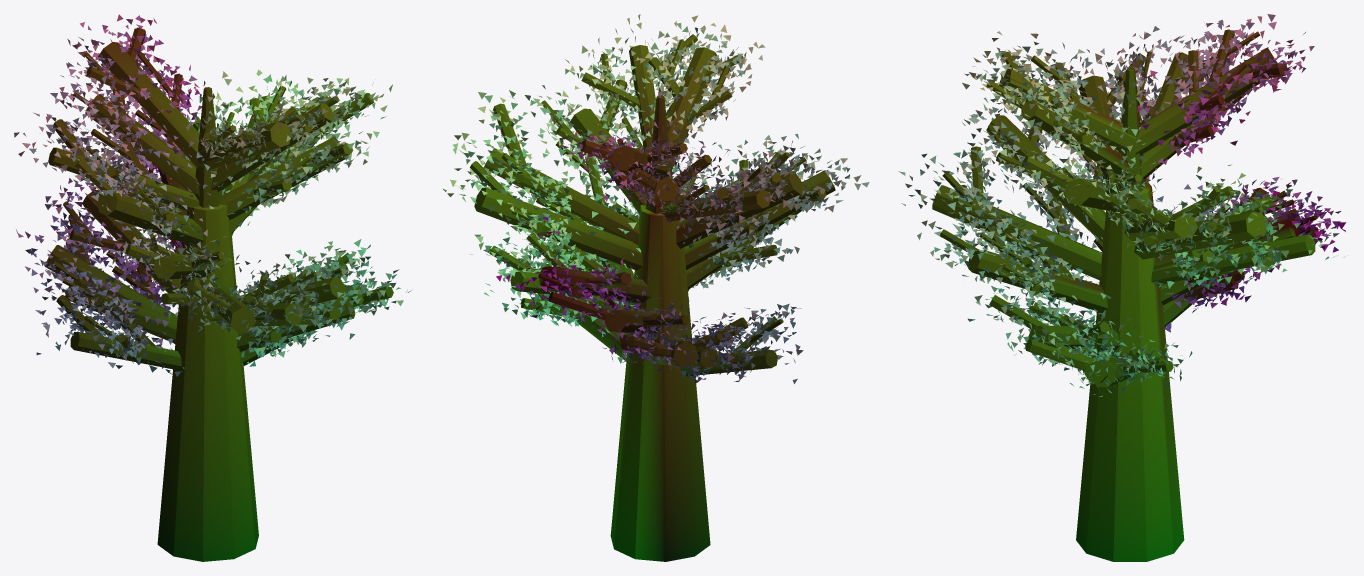
Rendered from ecological_broadleaf_ancient_01.glb.
The picture shows the model from 3 angles, left to right: view 1: azimuth 30°, elevation 25°; view 2: azimuth 150°, elevation 25°; view 3: azimuth 270°, elevation 25°; orthographic projection. The views are drawn at different scales.
Visible parts, largest first — view 1: ecological_broadleaf_ancient_01; view 2: ecological_broadleaf_ancient_01; view 3: ecological_broadleaf_ancient_01.
Part boxes in pixels (x1,y1,x2,y2): ecological_broadleaf_ancient_01: (14,14,412,561); ecological_broadleaf_ancient_01: (443,14,869,561); ecological_broadleaf_ancient_01: (898,14,1346,561).
Bounding box in the file's own units: 55.29 × 71.92 × 59.92.
